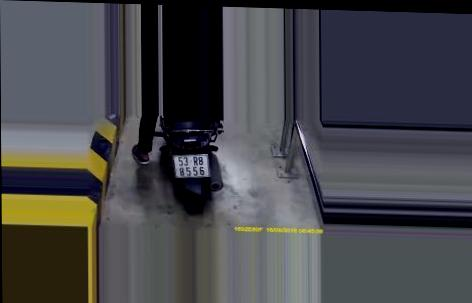License_Plate: (170, 151, 211, 181)
